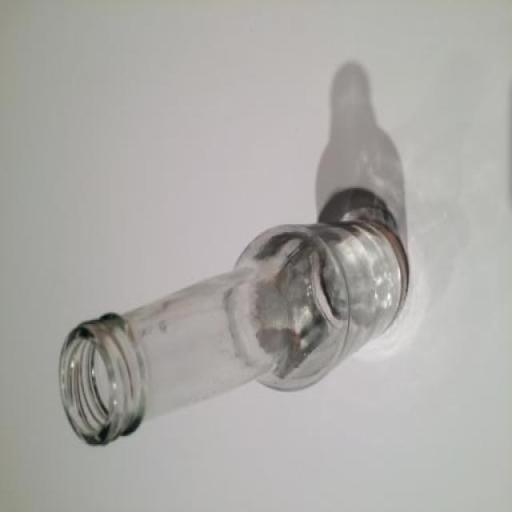glass: (39, 182, 425, 472)
